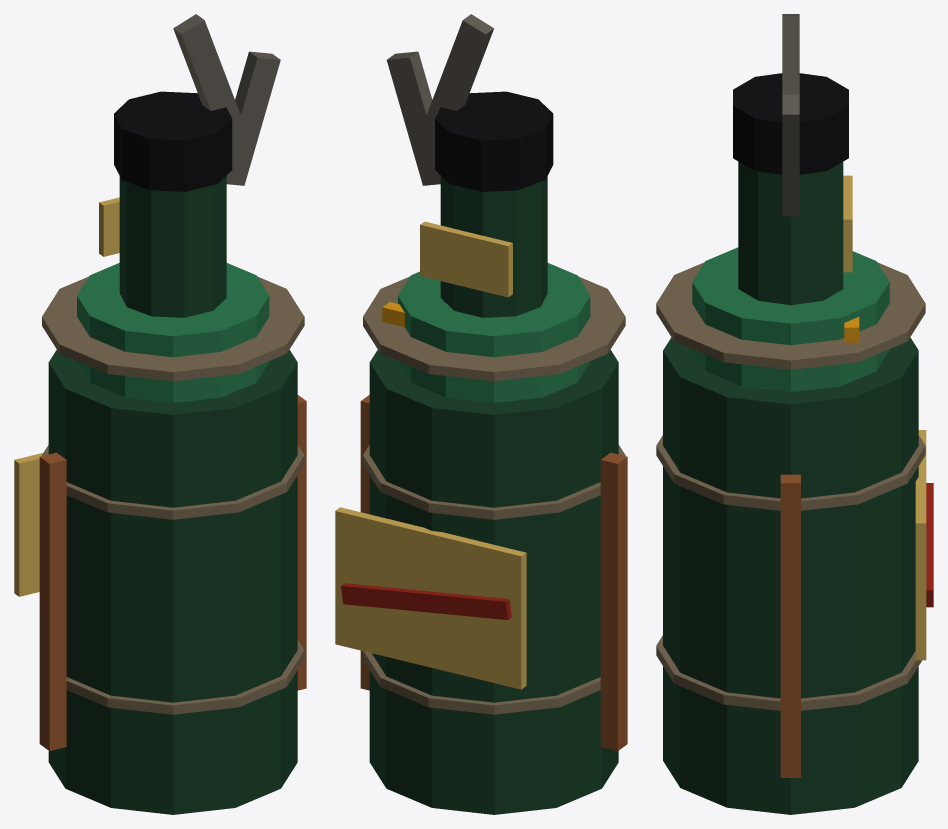
File: Barley_Bottle.obj
3 views of the same model, side by side, from view 1: azimuth 30°, elevation 25°; view 2: azimuth 150°, elevation 25°; view 3: azimuth 270°, elevation 25° (orthographic). The views are drawn at different scales.
Parts seen in each view (by area): view 1: BottleBody, WireBand, BottleShoulder, BottleNeck, Cap, SideStickLeft, RagFoldA, MainLabel, RagFoldB, SideStickRight, NeckLabel; view 2: BottleBody, MainLabel, WireBand, BottleShoulder, Cap, BottleNeck, SideStickLeft, NeckLabel, RagFoldA, LabelSlash, RagFoldB, SideStickRight; view 3: BottleBody, WireBand, BottleShoulder, BottleNeck, Cap, SideStickRight, MainLabel, RagFoldB, RagFoldA, LabelSlash, NeckLabel.
Part boxes in pixels (x1,y1,x2,y2): BottleBody: (48,350,297,814); WireBand: (42,276,304,714); BottleShoulder: (77,263,269,402); BottleNeck: (119,176,226,317); Cap: (114,91,232,191); SideStickLeft: (39,452,66,750); RagFoldA: (173,14,251,155); MainLabel: (14,453,42,596); RagFoldB: (226,51,280,185); SideStickRight: (297,395,306,690); NeckLabel: (99,197,119,256); BottleBody: (369,350,618,814); MainLabel: (335,507,526,689); WireBand: (363,276,625,714); BottleShoulder: (398,263,590,402); Cap: (435,91,553,191); BottleNeck: (440,175,547,317); SideStickLeft: (600,452,627,750); NeckLabel: (420,221,512,297); RagFoldA: (416,14,493,155); LabelSlash: (341,583,511,619); RagFoldB: (386,51,440,185); SideStickRight: (360,395,369,690); BottleBody: (663,337,918,814); WireBand: (656,262,925,710); BottleShoulder: (692,247,889,391); BottleNeck: (738,161,843,305); Cap: (733,73,848,174); SideStickRight: (780,474,800,777); MainLabel: (915,430,926,660); RagFoldB: (782,94,799,216); RagFoldA: (782,14,799,94); LabelSlash: (926,483,933,607); NeckLabel: (843,175,852,272).
Bounding box in the file's own units: 0.525 × 1.44 × 0.478.
